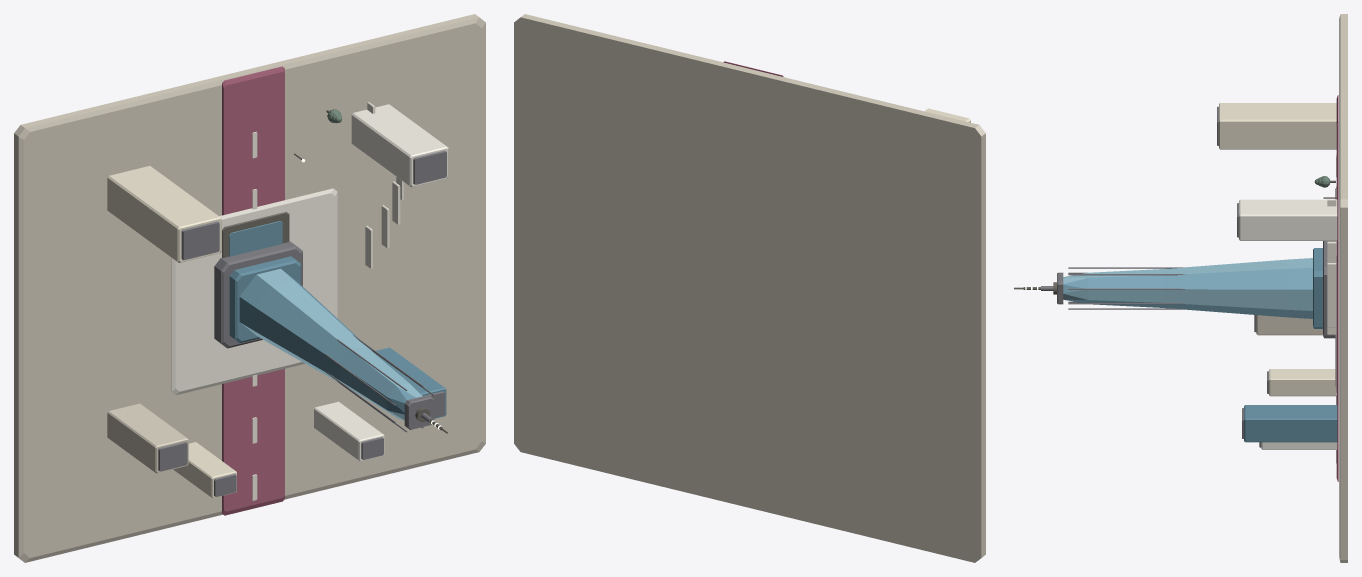
Rendered from one-world-trade-center-chatgpt.glb.
The picture shows the model from 3 angles, left to right: view 1: azimuth 30°, elevation 25°; view 2: azimuth 150°, elevation 25°; view 3: azimuth 270°, elevation 25°; orthographic projection. The views are drawn at different scales.
Parts seen in each view (by area): view 1: Ground, Maroon_Road, Plaza_Plinth, Bldg_0, Bldg_1, OWTC_Faceted_Tower_blue1, OWTC_Faceted_Tower_blue2, Bldg_2, OWTC_Faceted_Tower_blue3, OWTC_Base, Bldg_5, OWTC_Base_Upper (+8 smaller); view 2: Ground; view 3: OWTC_Faceted_Tower_blue2, Bldg_0, OWTC_Faceted_Tower_blue1, Ground, Bldg_1, Bldg_3, Bldg_4, Bldg_2, Maroon_Road, OWTC_Base_Upper, Bldg_5, OWTC_Base.
Boxes of the visible parts, x1,y1,x2,y2 form: Ground: (14,14,485,562); Maroon_Road: (222,66,284,515); Plaza_Plinth: (171,188,337,395); Bldg_0: (107,166,221,262); Bldg_1: (351,104,448,186); OWTC_Faceted_Tower_blue1: (239,271,422,403); OWTC_Faceted_Tower_blue2: (240,268,422,420); Bldg_2: (107,403,188,473); OWTC_Faceted_Tower_blue3: (239,297,404,414); OWTC_Base: (214,241,302,348); Bldg_5: (314,401,384,461); OWTC_Base_Upper: (229,256,300,343); Ground: (514,14,985,562); OWTC_Faceted_Tower_blue2: (1063,258,1312,310); Bldg_0: (1219,103,1336,149); OWTC_Faceted_Tower_blue1: (1063,268,1312,318); Ground: (1339,14,1347,562); Bldg_1: (1239,199,1337,240); Bldg_3: (1244,405,1337,442); Bldg_4: (1269,369,1336,396); Bldg_2: (1256,315,1322,335); Maroon_Road: (1336,95,1338,481); OWTC_Base_Upper: (1313,248,1322,328); Bldg_5: (1261,442,1337,449); OWTC_Base: (1323,241,1335,338).
Bounding box in the file's own units: 18 × 16 × 13.32.
